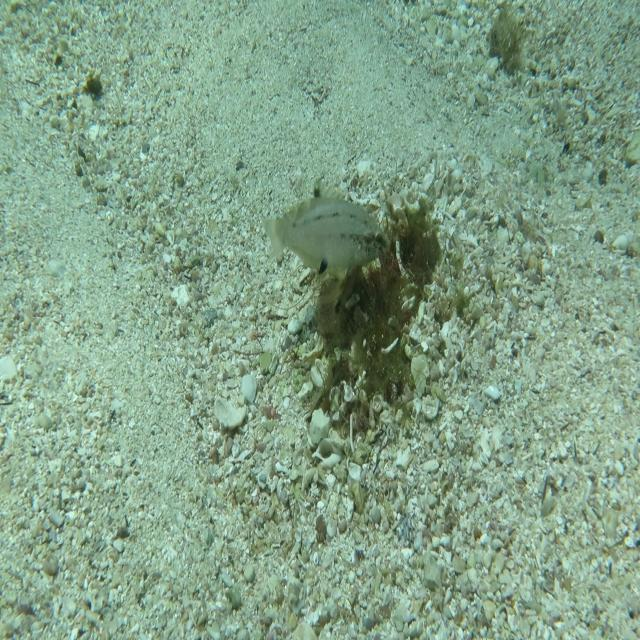DAN_CIRC: (312, 176, 358, 330)
core_nest: (370, 229, 416, 276)
female: (262, 196, 392, 278)
nest: (308, 159, 458, 432)
